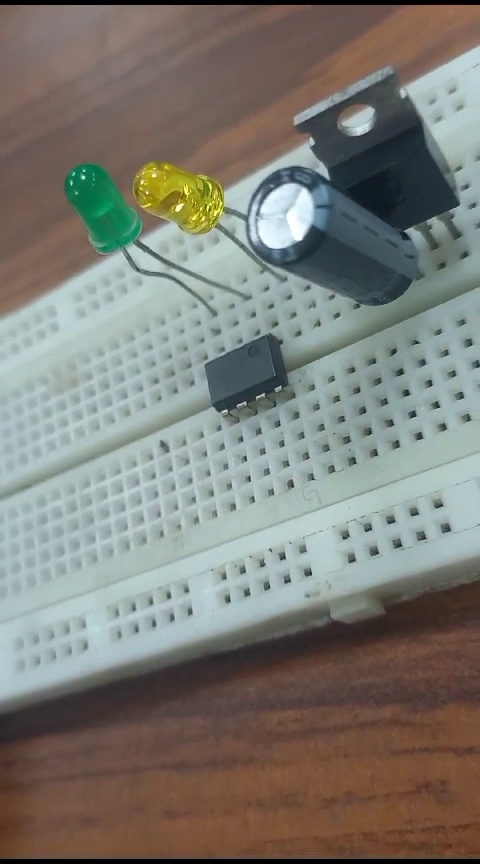IC: (194, 331, 286, 411)
LED: (43, 156, 143, 281), (130, 161, 239, 244)
capacitor: (252, 160, 412, 317)
voltage regulator: (298, 75, 471, 232)
